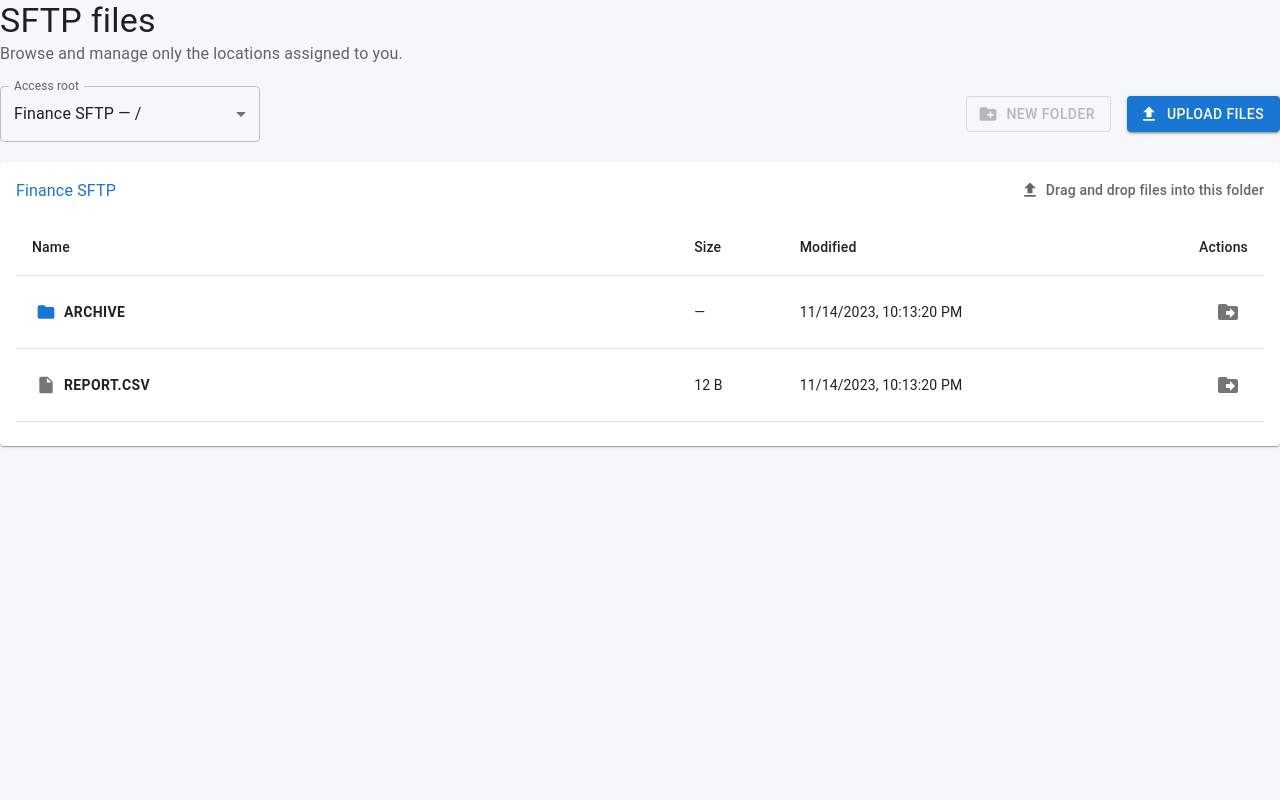
same-server move folder picker › selects a destination folder in a popup and moves the item without a browser prompt
Click the button named "Move report.csv" at [1228, 385], box [1208,365,1248,405]
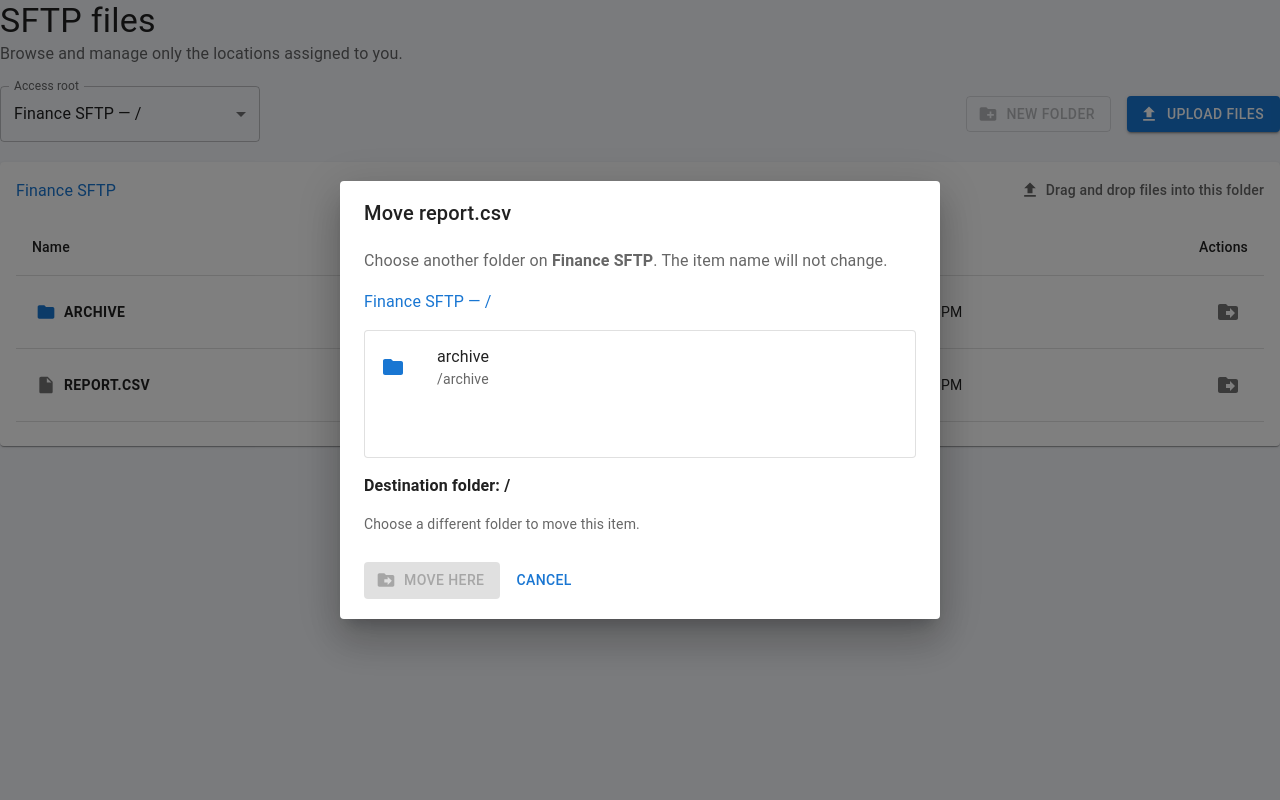
Result: the dialog "Move report.csv" shows "Finance SFTP" at [552,251,653,270]
Result: the dialog "Move report.csv" shows "Destination folder: /" at [340,181,940,619]
Result: the button "Move here" is disabled at [364,562,500,599]
Click the button with aria-label "Open archive" at [435, 367], box [381,347,489,387]
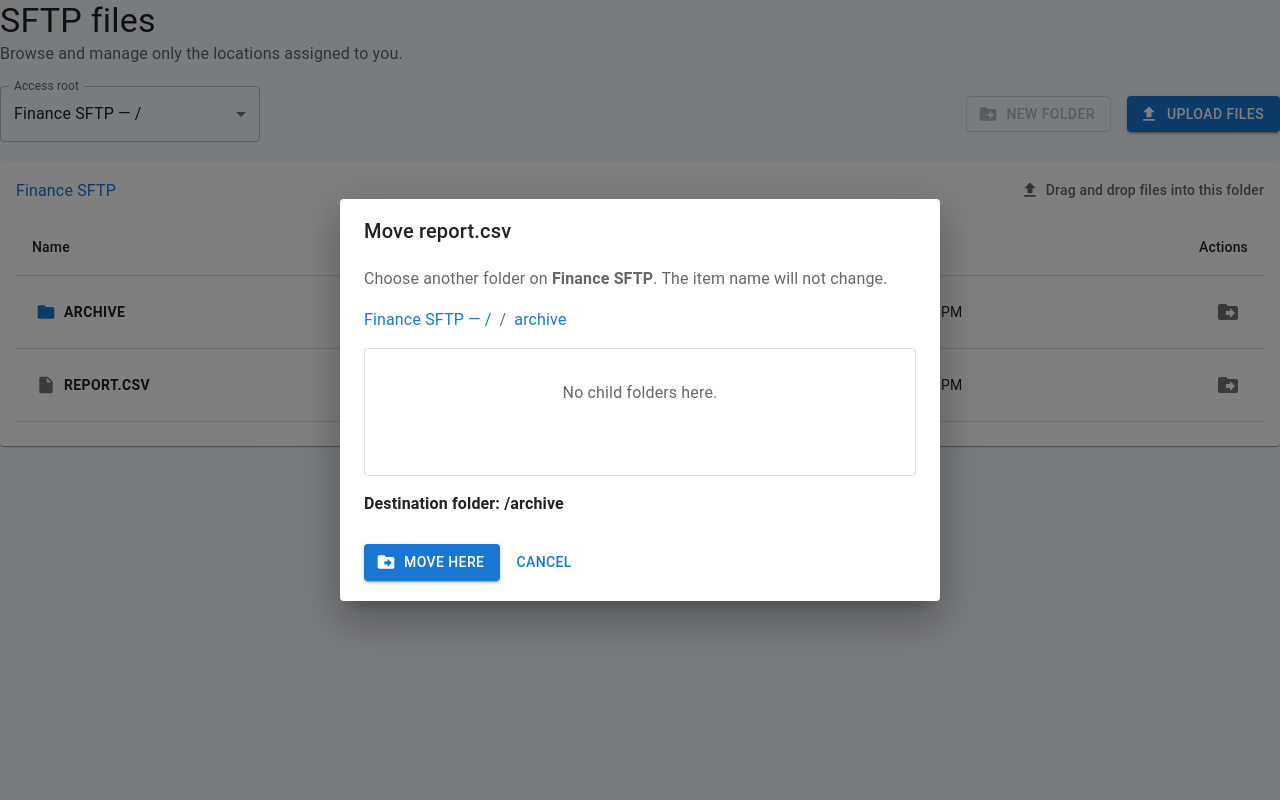
Result: the text "Destination folder: /archive" is shown at [364,494,564,513]
Click the button "Move here" at [432, 562], box [364,544,500,581]
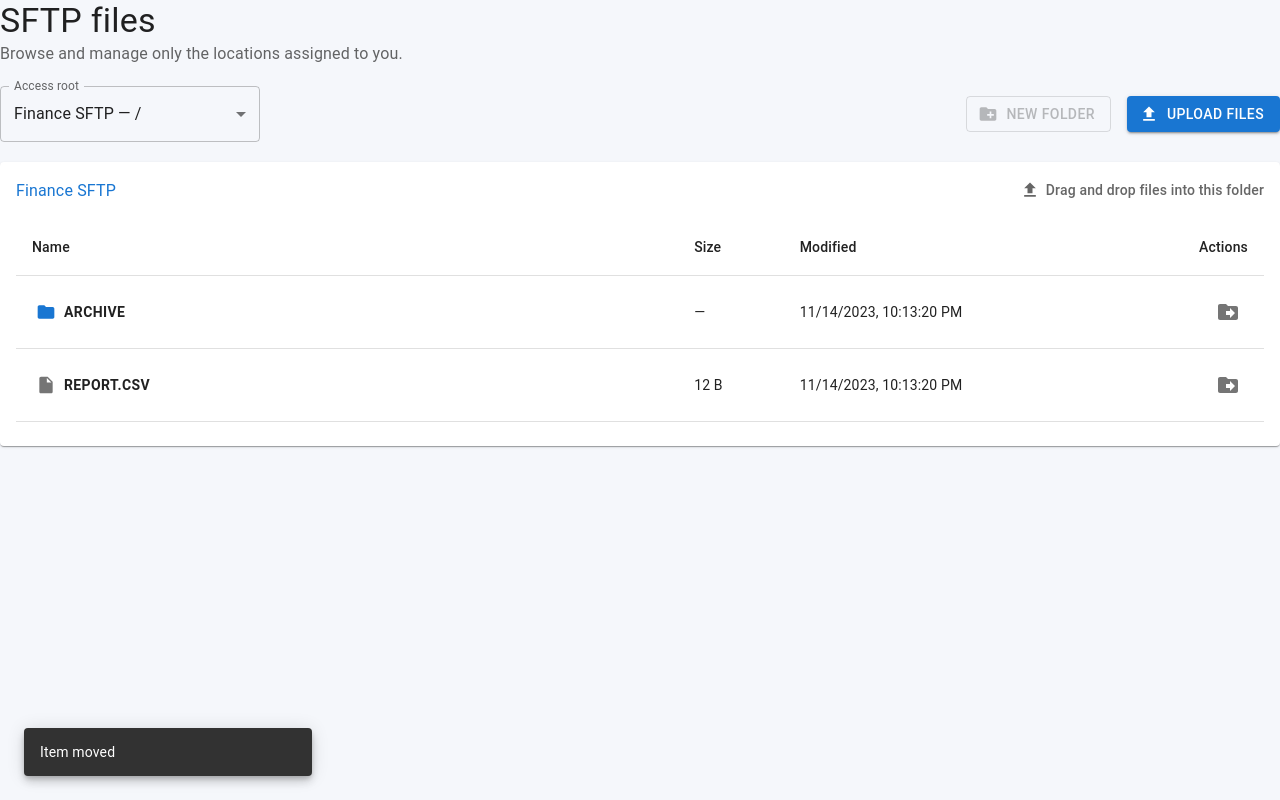
Result: the heading "Move report.csv" is gone
Result: the text "Item moved" is shown at [40,744,115,760]
